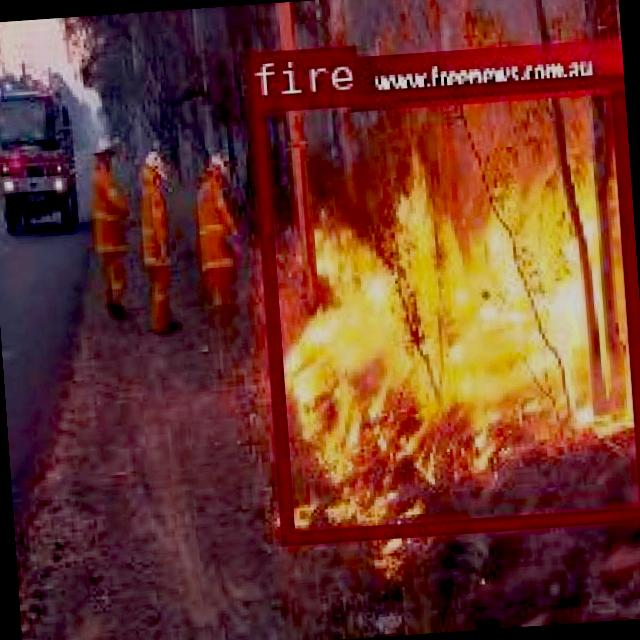fire: (250, 72, 640, 541)
